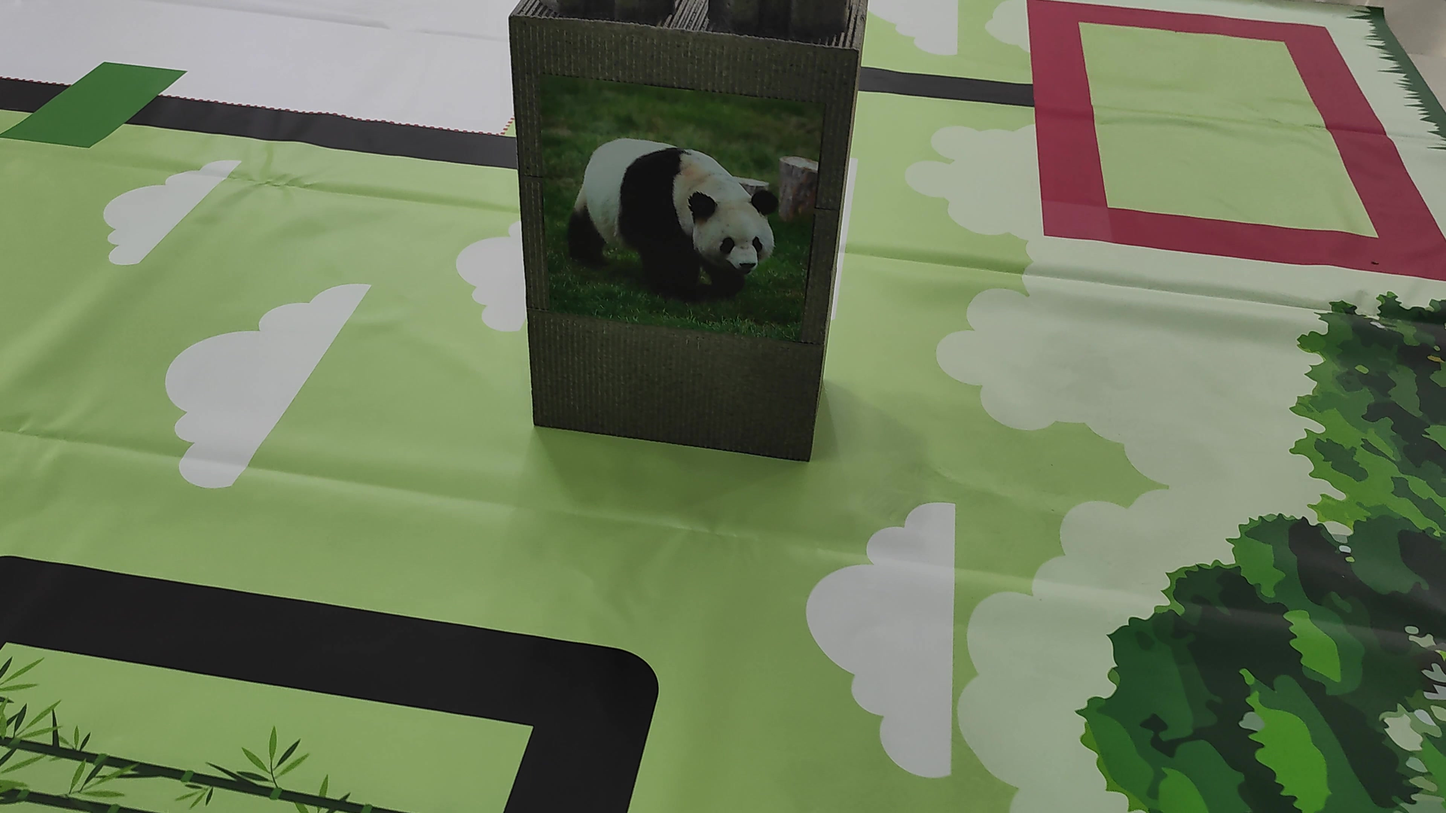panda: (551, 105, 781, 324)
